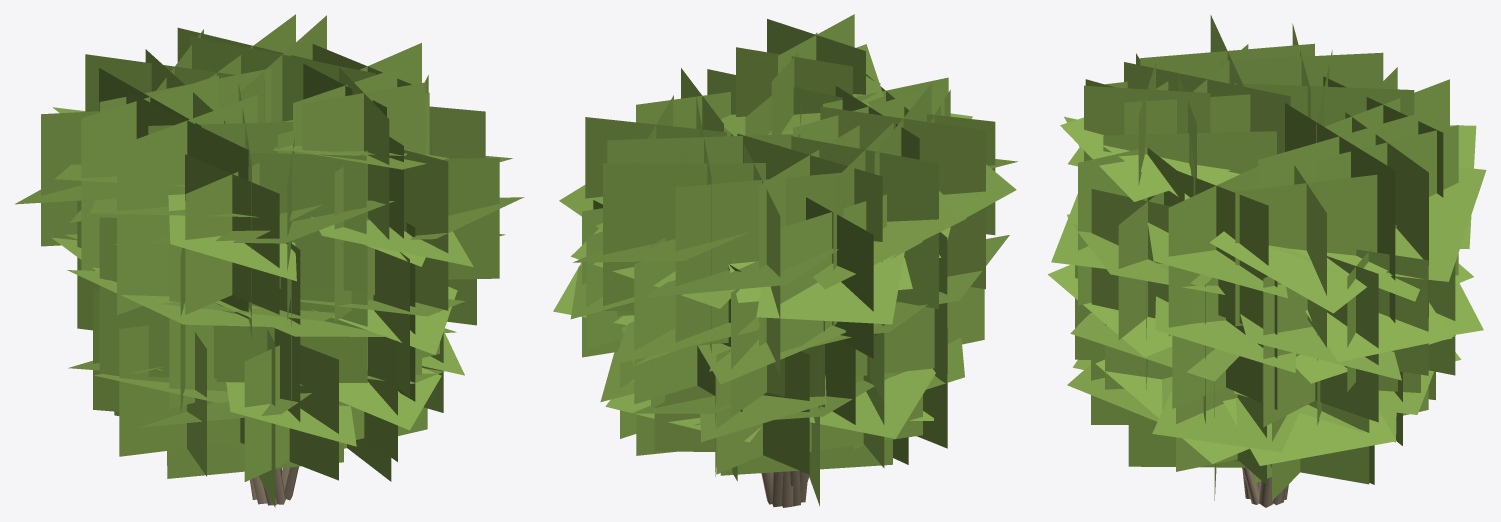
Rendered from noisetier_3_f3_loin.glb.
3 renders of one model, left to right at view 1: azimuth 30°, elevation 25°; view 2: azimuth 150°, elevation 25°; view 3: azimuth 270°, elevation 25°, orthographic. The views are drawn at different scales.
Parts seen in each view (by area): view 1: Noisetier_T3_f3_Leger_Loin; view 2: Noisetier_T3_f3_Leger_Loin; view 3: Noisetier_T3_f3_Leger_Loin.
Boxes of the visible parts, x1,y1,x2,y2 form: Noisetier_T3_f3_Leger_Loin: (15,14,524,507); Noisetier_T3_f3_Leger_Loin: (553,14,1017,507); Noisetier_T3_f3_Leger_Loin: (1048,15,1486,507).
Bounding box in the file's own units: 5.97 × 6.02 × 5.65.
